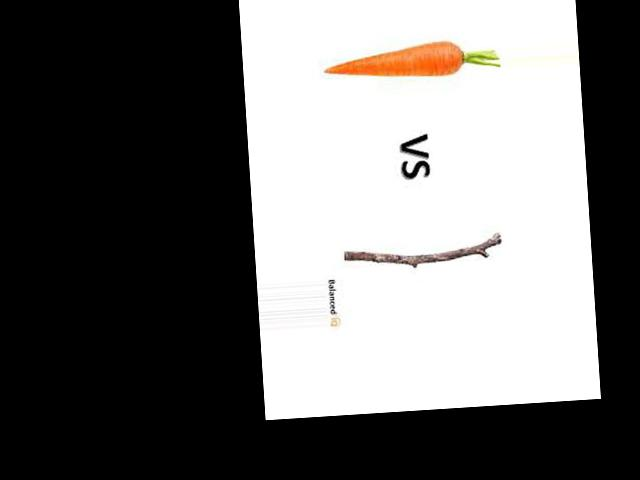carrot: (317, 37, 472, 90)
